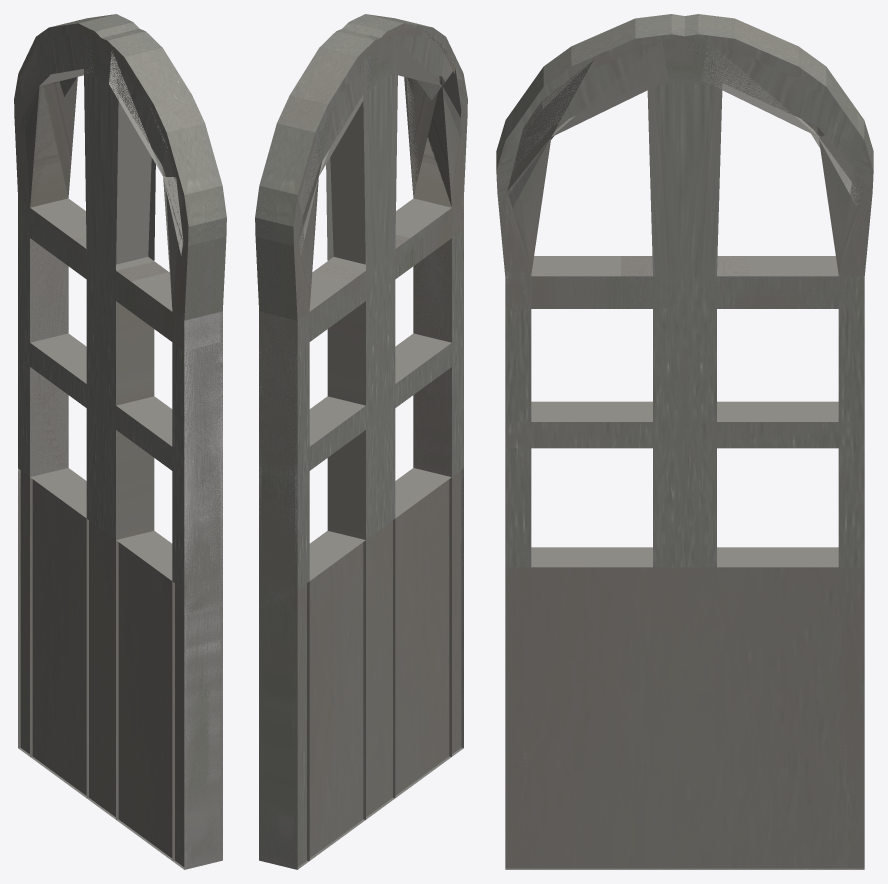
The model's file is metal_detector.fbx.
The picture shows the model from 3 angles, left to right: view 1: azimuth 30°, elevation 25°; view 2: azimuth 150°, elevation 25°; view 3: azimuth 270°, elevation 25°; orthographic projection. The views are drawn at different scales.
Parts seen in each view (by area): view 1: gun_check; view 2: gun_check; view 3: gun_check.
Part boxes in pixels (x1=…): gun_check: x1=14, y1=14, x2=226, y2=869; gun_check: x1=255, y1=14, x2=467, y2=869; gun_check: x1=496, y1=14, x2=873, y2=869.
Size of the model in its own units: 40 by 769 by 315.
1 material, 1 textured.
